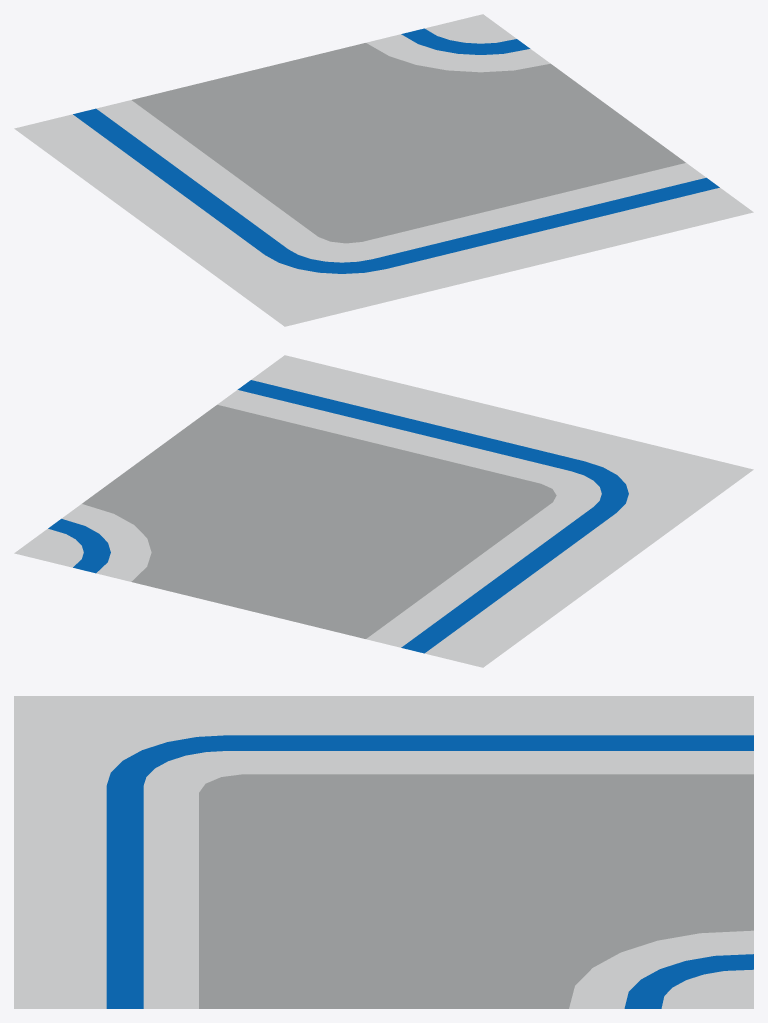
Rendered from Ceiling_type_A_041.fbx.
3 views of the same model, one above another, from view 1: azimuth 30°, elevation 25°; view 2: azimuth 150°, elevation 25°; view 3: azimuth 270°, elevation 25° (orthographic). The views are drawn at different scales.
Visible parts, largest first — view 1: Ceiling_type_A_041; view 2: Ceiling_type_A_041; view 3: Ceiling_type_A_041.
Part boxes in pixels (<box>): Ceiling_type_A_041: <box>14,14,753,326</box>; Ceiling_type_A_041: <box>14,355,753,667</box>; Ceiling_type_A_041: <box>14,696,753,1008</box>.
Size of the model in its own units: 400 by 400 by 1.2.
